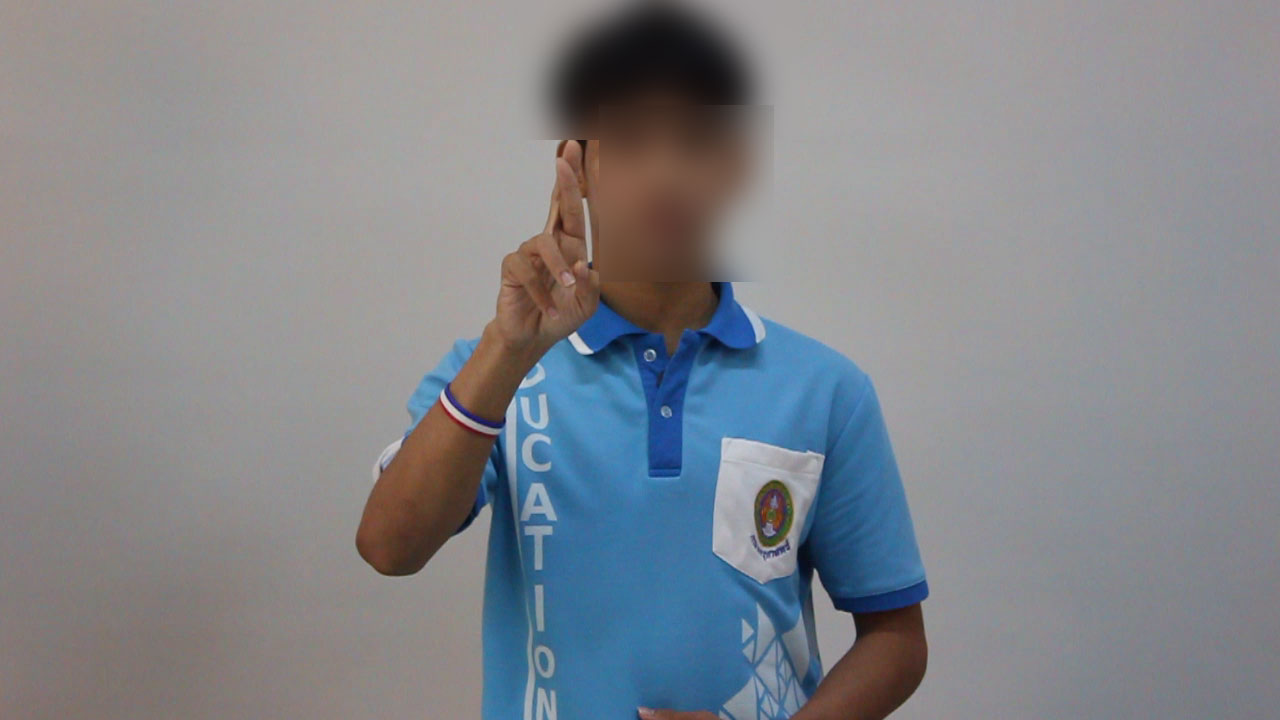rao: (453, 132, 608, 342)
